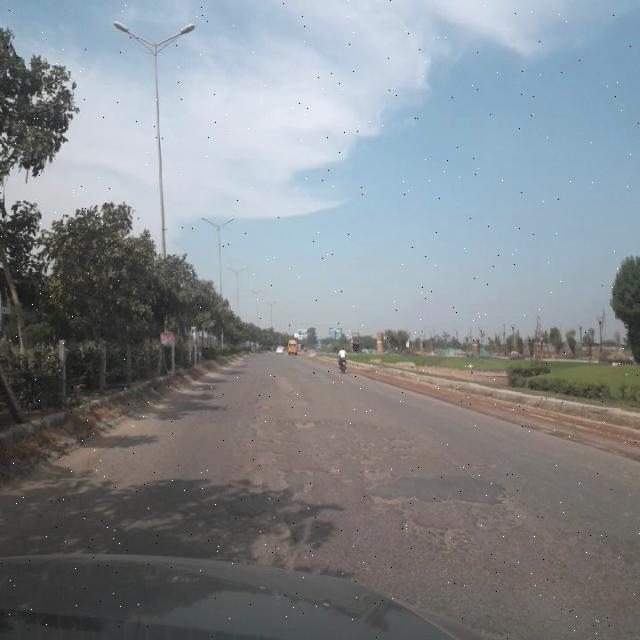D40: (372, 486, 526, 550), (228, 439, 295, 498), (246, 508, 314, 566), (247, 386, 300, 436), (348, 426, 392, 477), (394, 428, 421, 462), (290, 410, 324, 436)
